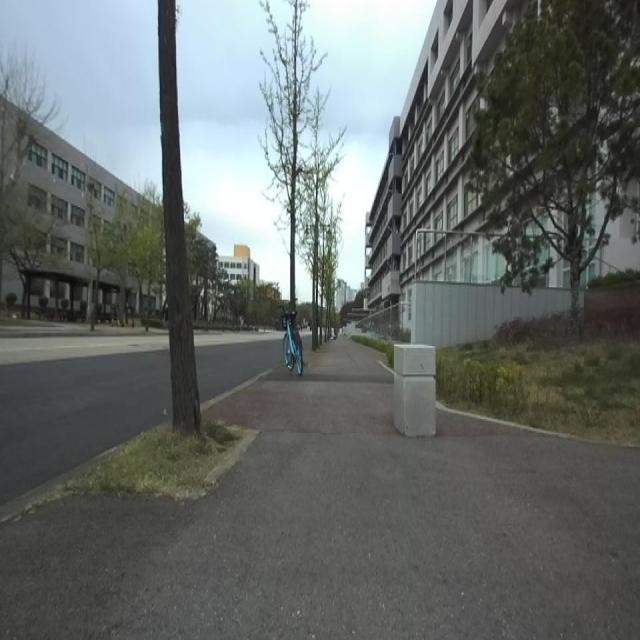sidewalk: (0, 337, 640, 639), (0, 447, 120, 523), (200, 368, 272, 411)
